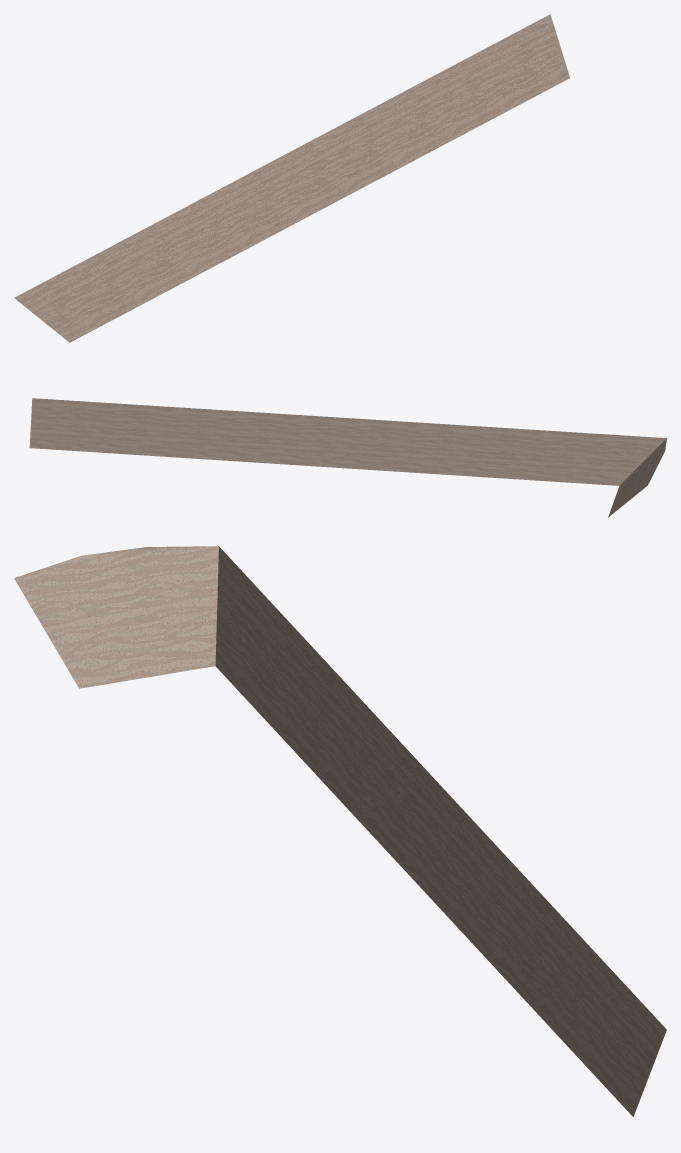
File: kd_stage_135fe0_5_13.glb
3 renders of one model, top to bottom at view 1: azimuth 30°, elevation 25°; view 2: azimuth 150°, elevation 25°; view 3: azimuth 270°, elevation 25°, orthographic. The views are drawn at different scales.
Parts seen in each view (by area): view 1: kd_stage_135fe0_5_13; view 2: kd_stage_135fe0_5_13; view 3: kd_stage_135fe0_5_13.
Boxes of the visible parts, x1=… form: kd_stage_135fe0_5_13: x1=14, y1=14, x2=569, y2=342; kd_stage_135fe0_5_13: x1=29, y1=398, x2=666, y2=517; kd_stage_135fe0_5_13: x1=14, y1=546, x2=666, y2=1116.
Bounding box in the file's own units: 3.08 × 0.2495 × 1.65.
Materials: 1 (1 with a texture image).
